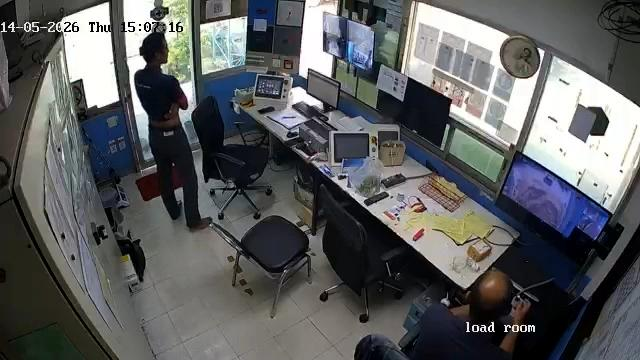Head: (465, 270, 516, 322), (139, 32, 170, 66)
People: (133, 31, 212, 229), (355, 271, 529, 360)
Phone: (257, 106, 276, 114)
